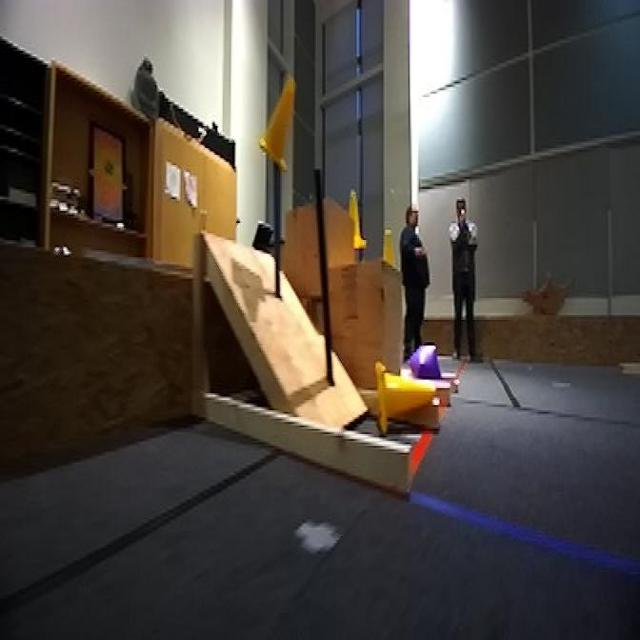frc_cone: (371, 361, 440, 437), (259, 75, 294, 175), (341, 189, 367, 252), (382, 230, 397, 267)
frc_cube: (408, 344, 442, 393)
